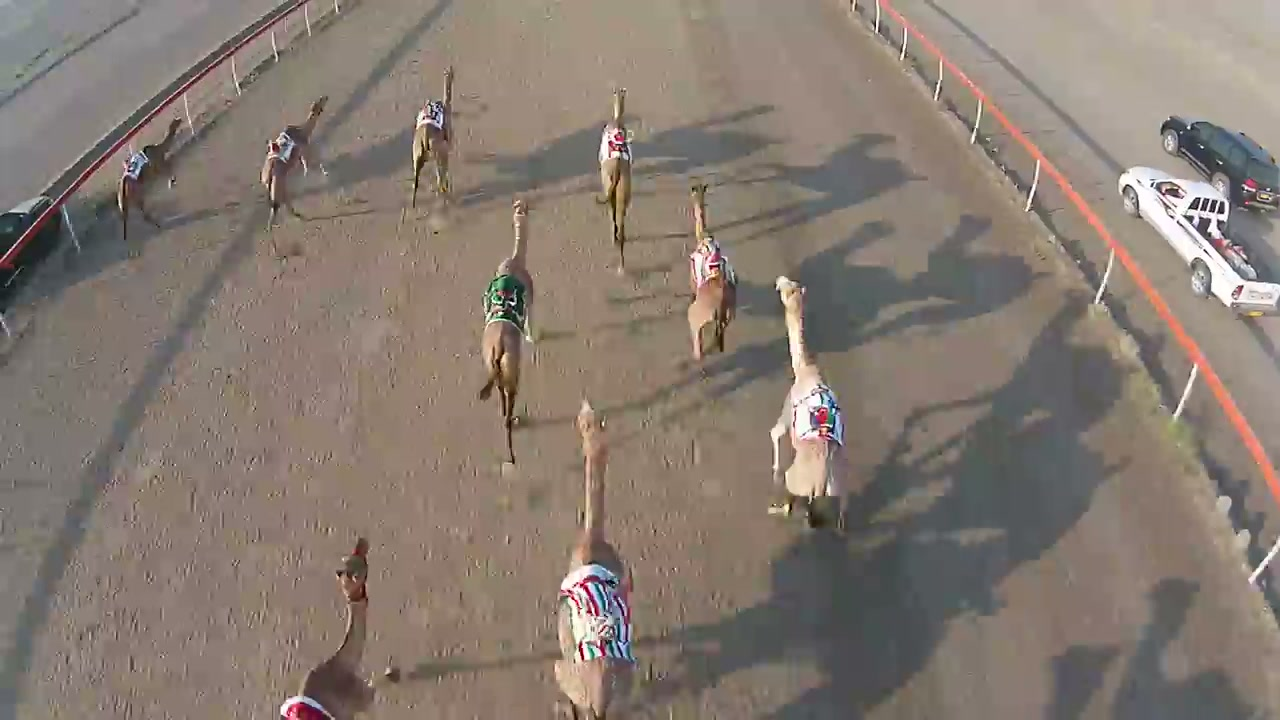animal_footprint: (68, 222, 318, 704), (448, 457, 562, 711)
